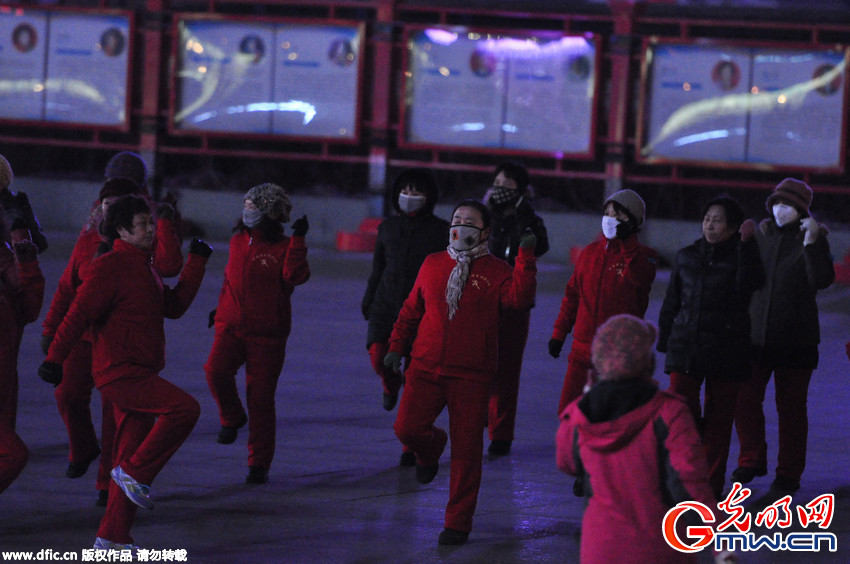mask: (756, 199, 812, 236), (591, 209, 635, 245), (449, 223, 489, 256), (236, 198, 271, 233), (395, 189, 432, 218)
